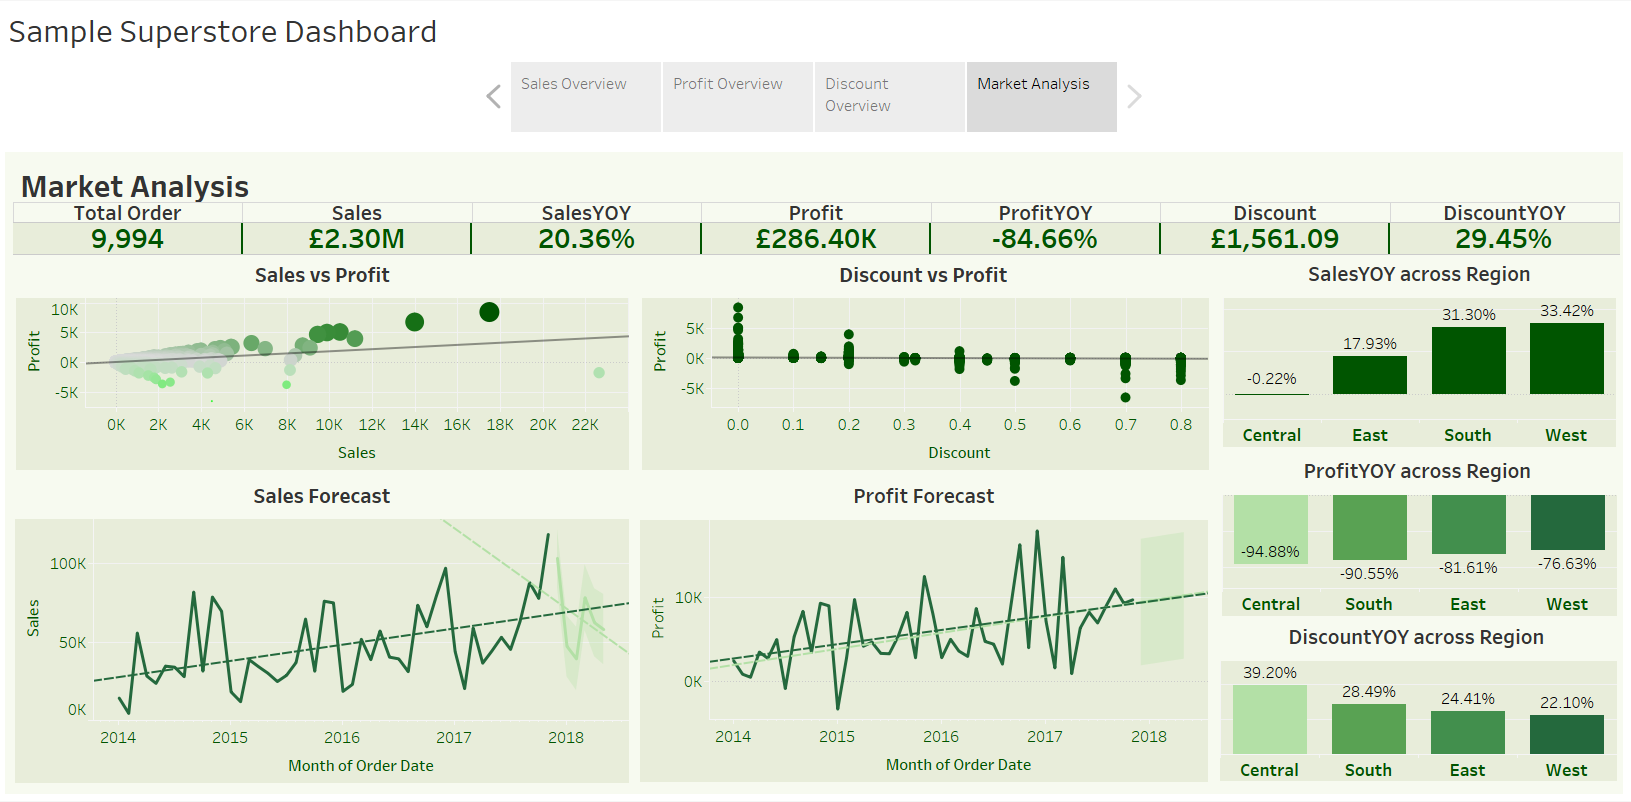

This screenshot's page, from the dashboard's own definition file:
{"tool":"tableau","page":{"name":"Market Analysis","canvas":[1000,1000],"units":"permille","ordinal":1},"visuals":[{"type":"title","box":[4.2,8.8,991.7,54.2]},{"type":"worksheet","title":"Market KPI","mark":"Automatic","box":[4.9,77.4,993.3,82.4]},{"type":"worksheet","title":"SalesYOY across Region","mark":"Automatic","rows":["Calculation_863283812307369992"],"cols":["Region"],"box":[752.8,161.1,243,299.6]},{"type":"worksheet","title":"Sales vs Profit","mark":"Pie","rows":["Profit"],"cols":["Sales"],"box":[6.7,162.3,378.8,333.3]},{"type":"worksheet","title":"Discount vs Profit ","mark":"Pie","rows":["Profit"],"cols":["Discount"],"box":[393.5,162.3,350.7,333.3]},{"type":"worksheet","title":"ProfitYOY across Region ","mark":"Automatic","rows":["Calculation_863283812310704139"],"cols":["Region"],"box":[752.1,466.9,244.2,255.9]},{"type":"worksheet","title":"Sales Forecast","mark":"Automatic","rows":["Sales"],"cols":["Order Date"],"box":[6.1,505.6,379.4,476.9]},{"type":"worksheet","title":"Profit Forecast","mark":"Automatic","rows":["Profit"],"cols":["Order Date"],"box":[392.3,505.6,351.3,475.7]},{"type":"worksheet","title":"DiscountYOY across Region ","mark":"Automatic","rows":["Calculation_863283812312555534"],"cols":["Region"],"box":[750.9,725.3,245.4,254.7]}]}

Visuals, with their boxes on the dashboard's canvas, which has no fixed pixel size, in thousandths of its width and height (x1, y1, x2, y2). These are canvas units, not pixel positions in the 1631x802 screenshot, which may show the page scaled, cropped or inside an application window:
title: pyautogui.locateOnScreen(4, 9, 996, 63)
"Market KPI" worksheet: pyautogui.locateOnScreen(5, 77, 998, 160)
"SalesYOY across Region" worksheet: pyautogui.locateOnScreen(753, 161, 996, 461)
"Sales vs Profit" worksheet (Pie marks): pyautogui.locateOnScreen(7, 162, 386, 496)
"Discount vs Profit " worksheet (Pie marks): pyautogui.locateOnScreen(394, 162, 744, 496)
"ProfitYOY across Region " worksheet: pyautogui.locateOnScreen(752, 467, 996, 723)
"Sales Forecast" worksheet: pyautogui.locateOnScreen(6, 506, 386, 982)
"Profit Forecast" worksheet: pyautogui.locateOnScreen(392, 506, 744, 981)
"DiscountYOY across Region " worksheet: pyautogui.locateOnScreen(751, 725, 996, 980)
